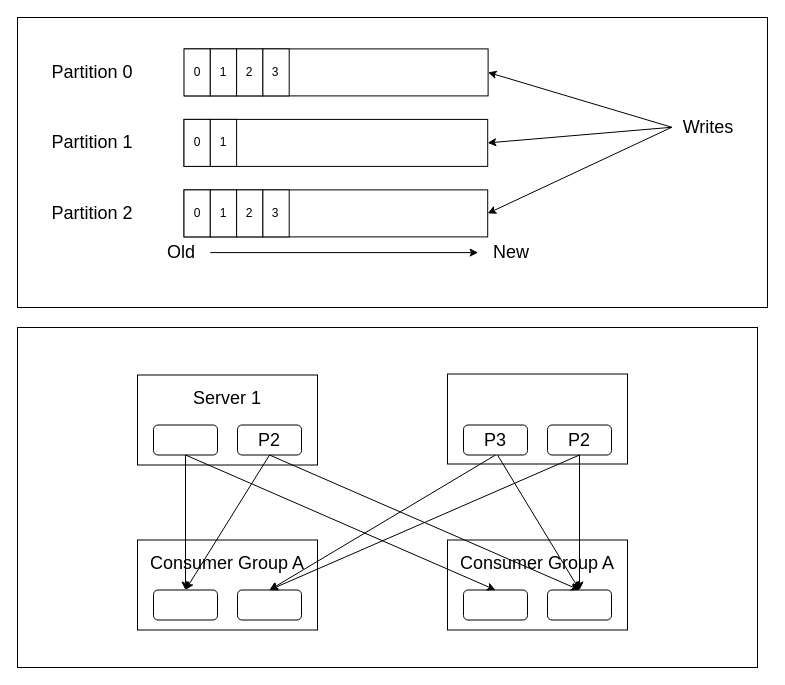
Some shapes in this 785 by 685 pixel diagram are drawn without their labels. The shapes that lost their labels are listed below. From the top down, each one's box as (x1, y1, x2, y2) in pixels, then its label:
(446, 373, 628, 464): Server 2
(152, 424, 218, 455): P1
(16, 326, 758, 668): Kafka Cluster
(152, 589, 218, 620): C1
(236, 589, 302, 620): C2
(462, 589, 528, 620): C3
(546, 589, 612, 620): C4
